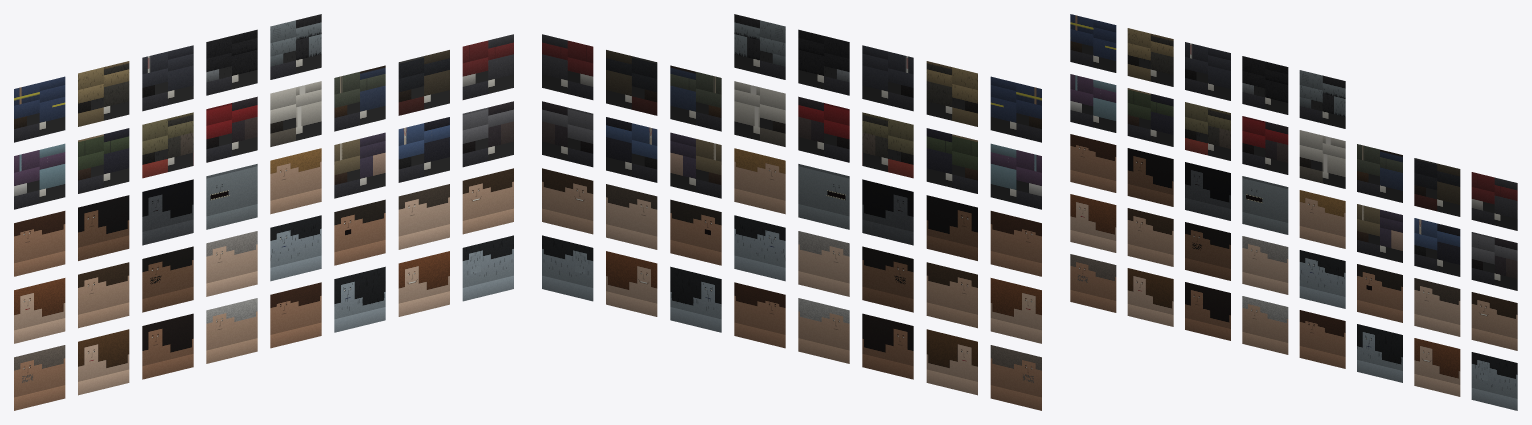
The model's file is Textures.fbx.
3 renders of one model, left to right at view 1: azimuth 30°, elevation 25°; view 2: azimuth 150°, elevation 25°; view 3: azimuth 330°, elevation 25°, orthographic. The views are drawn at different scales.
Parts seen in each view (by area): view 1: Tex_Face_F2, Tex_Face_F_BlackEyes, Tex_Out_F_Cardigan, Tex_Face_F_Smile, Tex_Out_F_Raincoat, Tex_Face_M1, Tex_Face_M2, Tex_Face_M_NoPupils, Tex_Face_RF, Tex_Face_RN, Tex_Out_F_GreyCoat, Tex_Out_F_Nurse (+25 smaller); view 2: Tex_Face_F2, Tex_Face_F_BlackEyes, Tex_Out_F_Cardigan, Tex_Face_F_Smile, Tex_Out_F_Raincoat, Tex_Face_M1, Tex_Face_M2, Tex_Face_M_NoPupils, Tex_Face_RF, Tex_Face_RN, Tex_Out_F_GreyCoat, Tex_Out_F_Nurse (+25 smaller); view 3: Tex_Face_Doyle, Tex_Face_F1, Tex_Face_F_BlackEyes, Tex_Face_M_Smile, Tex_Face_Mae, Tex_Face_RN, Tex_Face_Tom, Tex_Out_F_GreyCoat, Tex_Out_F_Nurse, Tex_Out_RF_Rags, Tex_Face_F_Smile, Tex_Face_Faceless (+25 smaller).
Part boxes in pixels (box(x1,y1,x2,y2)): Tex_Face_F2: box(142, 313, 193, 379); Tex_Face_F_BlackEyes: box(270, 282, 321, 348); Tex_Out_F_Cardigan: box(334, 132, 385, 198); Tex_Face_F_Smile: box(398, 251, 449, 316); Tex_Out_F_Raincoat: box(142, 112, 193, 178); Tex_Face_M1: box(78, 262, 129, 328); Tex_Face_M2: box(142, 246, 193, 312); Tex_Face_M_NoPupils: box(398, 184, 449, 249); Tex_Face_RF: box(142, 179, 193, 245); Tex_Face_RN: box(206, 164, 257, 229); Tex_Out_F_GreyCoat: box(462, 101, 513, 167); Tex_Out_F_Nurse: box(14, 143, 65, 209); Tex_Face_F2: box(862, 313, 913, 379); Tex_Face_F_BlackEyes: box(734, 282, 785, 348); Tex_Out_F_Cardigan: box(670, 132, 721, 198); Tex_Face_F_Smile: box(606, 251, 657, 316); Tex_Out_F_Raincoat: box(862, 112, 913, 178); Tex_Face_M1: box(926, 262, 977, 328); Tex_Face_M2: box(862, 246, 913, 312); Tex_Face_M_NoPupils: box(606, 184, 657, 249); Tex_Face_RF: box(862, 179, 913, 245); Tex_Face_RN: box(798, 164, 849, 229); Tex_Out_F_GreyCoat: box(542, 101, 593, 167); Tex_Out_F_Nurse: box(990, 143, 1041, 209); Tex_Face_Doyle: box(1070, 254, 1116, 312); Tex_Face_F1: box(1127, 268, 1173, 326); Tex_Face_F_BlackEyes: box(1299, 310, 1345, 368); Tex_Face_M_Smile: box(1471, 292, 1517, 350); Tex_Face_Mae: box(1070, 134, 1116, 192); Tex_Face_RN: box(1242, 176, 1288, 234); Tex_Face_Tom: box(1299, 190, 1345, 248); Tex_Out_F_GreyCoat: box(1471, 232, 1517, 290); Tex_Out_F_Nurse: box(1070, 74, 1116, 132); Tex_Out_RF_Rags: box(1242, 56, 1288, 114); Tex_Face_F_Smile: box(1414, 338, 1460, 396); Tex_Face_Faceless: box(1471, 352, 1517, 410).
Size of the model in its own units: 390 by 240 by 1.05e-05.
37 materials, 37 textured.
